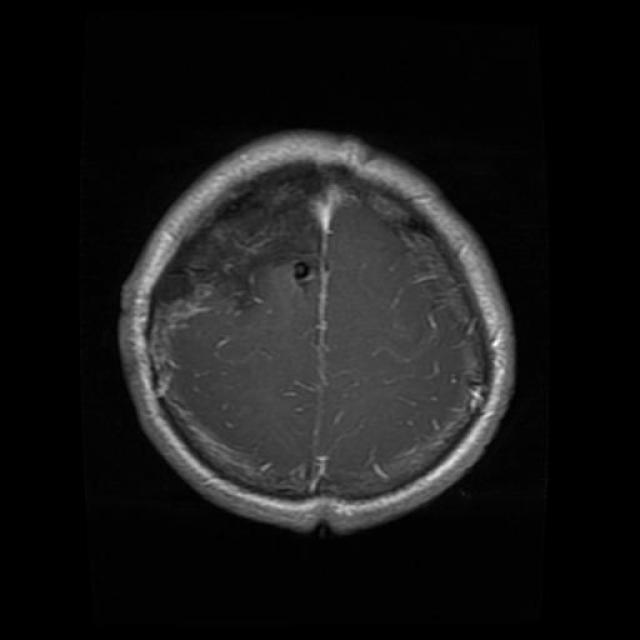glioma: (266, 208, 352, 319)
